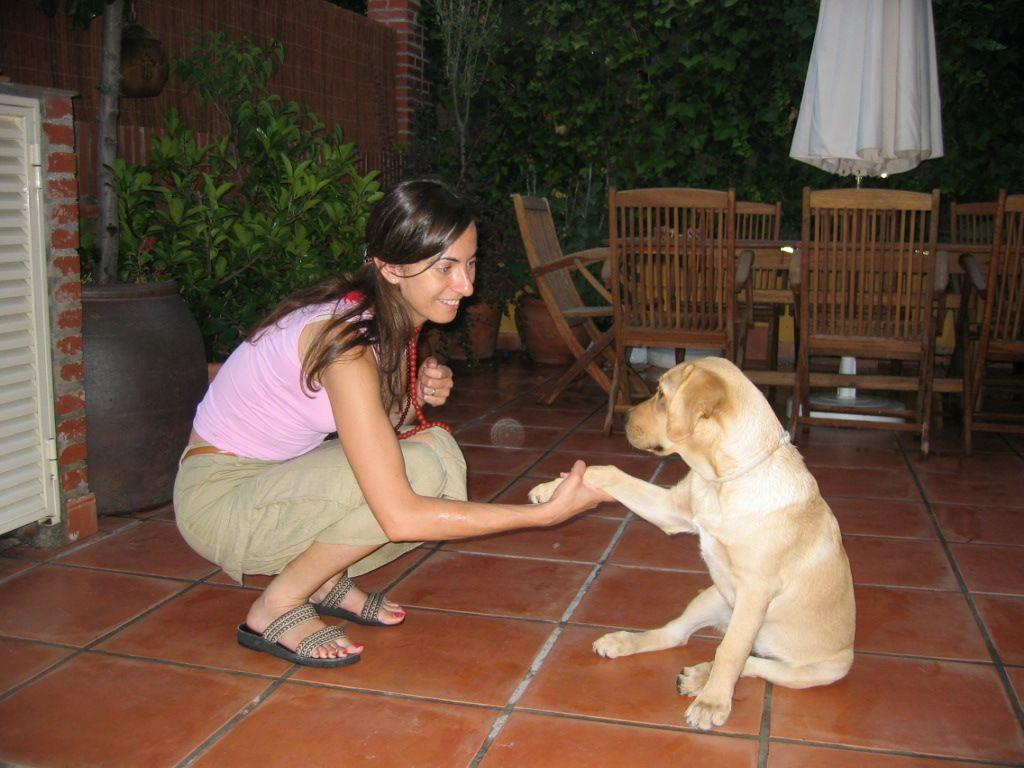face: (408, 218, 478, 322)
